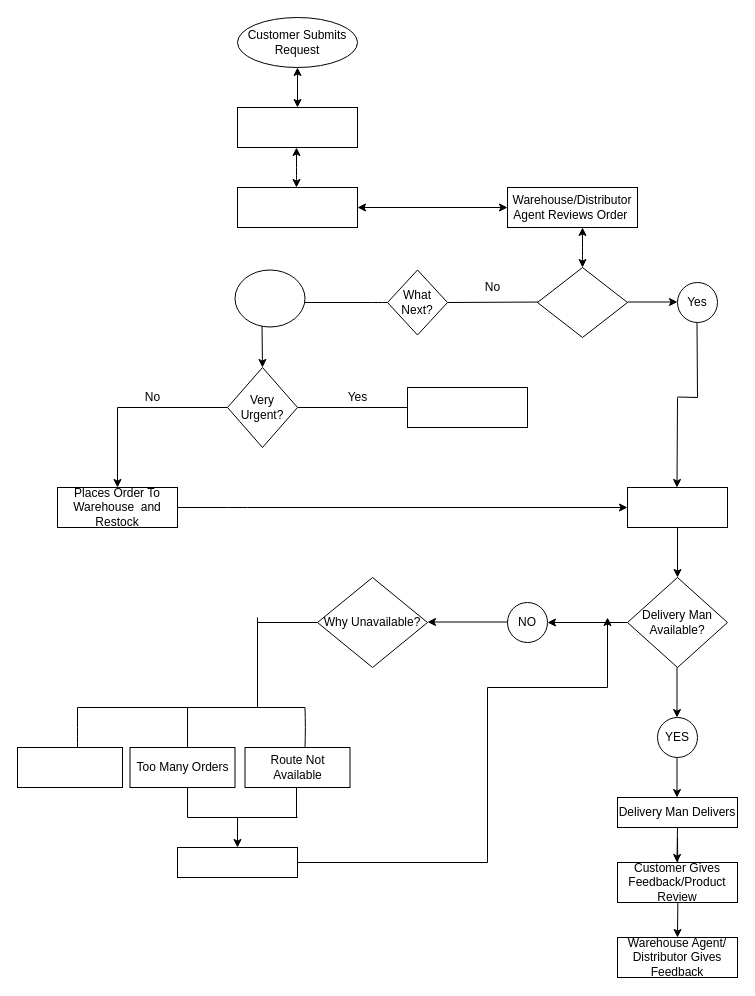
Some shapes in this 755 by 996 pixel diagram are drawn without their labels. The centre of each missing label's shape, as x and y in pixels:
"Cancels Order" goes at point (467, 407).
"Climate Coinditions" goes at point (69, 767).
"Contacts Delivery Man" goes at point (677, 507).
"Determines Urgency" goes at point (269, 298).
"Find Alternate Delivery Man" goes at point (237, 862).
"Order Available?" goes at point (582, 302).
"Sales Personnel Contacts Warehouse/Distributor" goes at point (297, 207).
"Sales Personnel Receives Order" goes at point (297, 127).
